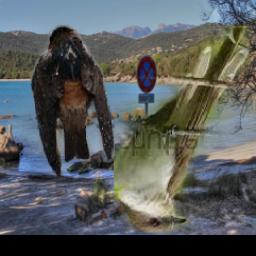Cuckoo: (114, 27, 250, 235)
Swallow: (30, 25, 115, 177)
